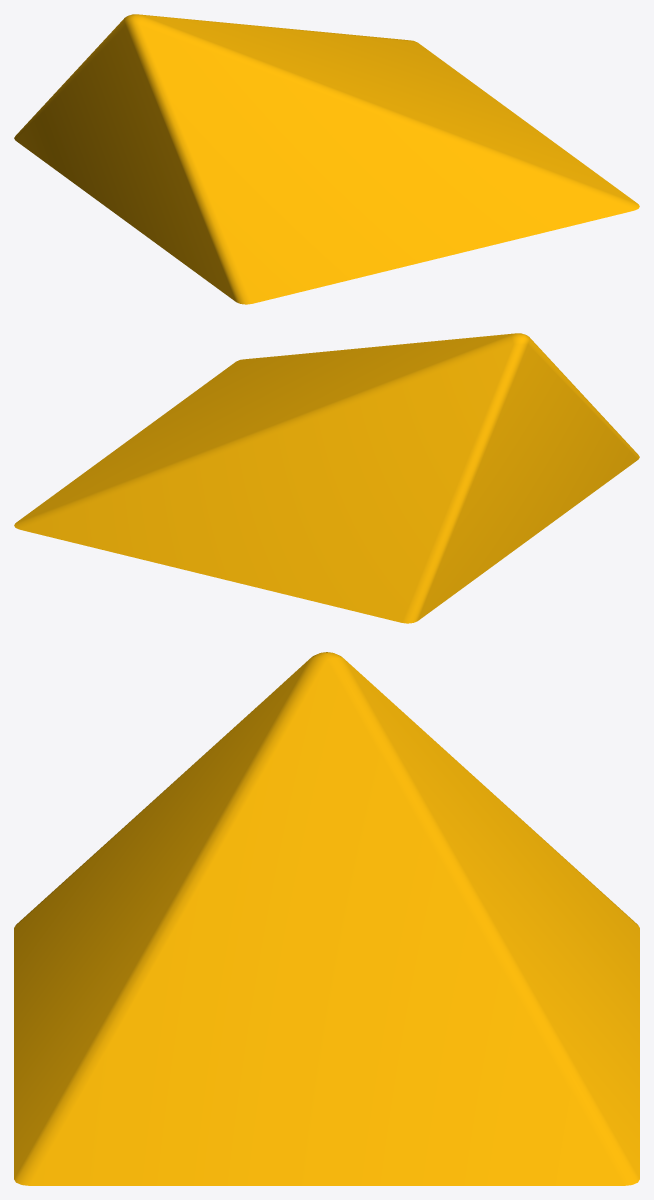
The model's file is Raised_Side_Middle_Half.fbx.
The picture shows the model from 3 angles, top to bottom: view 1: azimuth 30°, elevation 25°; view 2: azimuth 150°, elevation 25°; view 3: azimuth 270°, elevation 25°; orthographic projection. The views are drawn at different scales.
Visible parts, largest first — view 1: Raised_Side_Middle_Half; view 2: Raised_Side_Middle_Half; view 3: Raised_Side_Middle_Half.
Part boxes in pixels (x1,y1,x2,y2): Raised_Side_Middle_Half: [14, 14, 639, 304]; Raised_Side_Middle_Half: [14, 333, 639, 623]; Raised_Side_Middle_Half: [14, 652, 639, 1185].
Size of the model in its own units: 1 by 0.4827 by 1.
